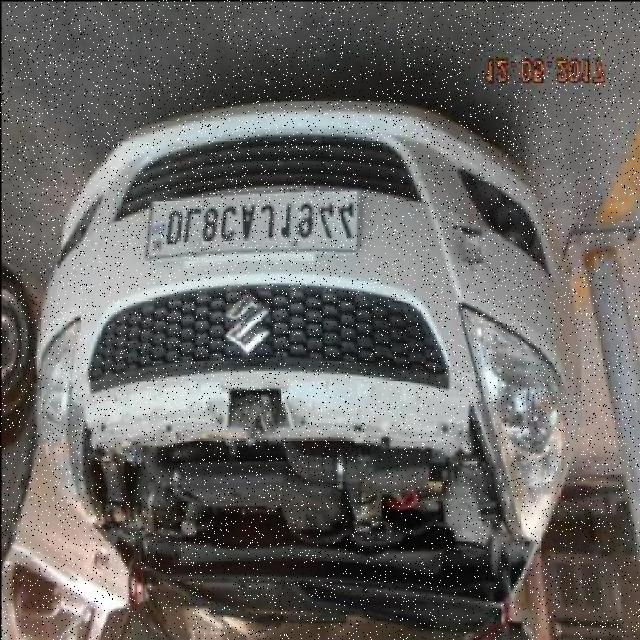damage: (457, 214, 483, 274)
